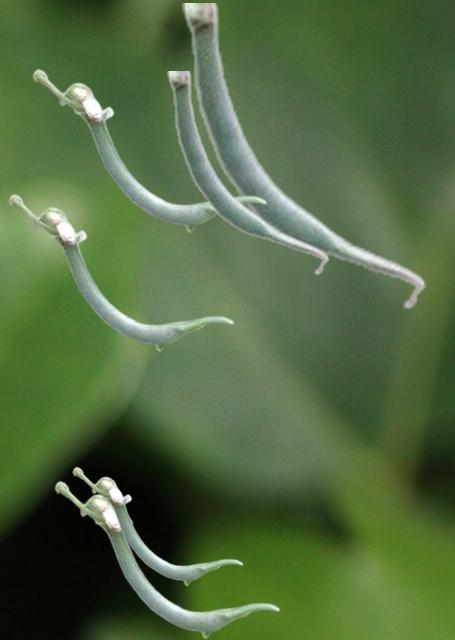french_bean: (182, 3, 425, 310), (32, 68, 266, 232), (8, 193, 233, 351), (54, 480, 279, 638), (167, 71, 328, 275), (72, 466, 242, 585)
